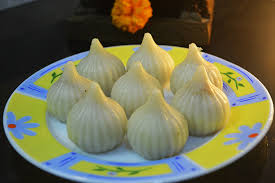modak: (128, 85, 193, 162), (168, 65, 237, 137), (53, 84, 129, 143), (44, 60, 113, 122), (169, 42, 234, 98), (76, 36, 127, 96), (131, 28, 181, 83), (116, 64, 165, 108)
